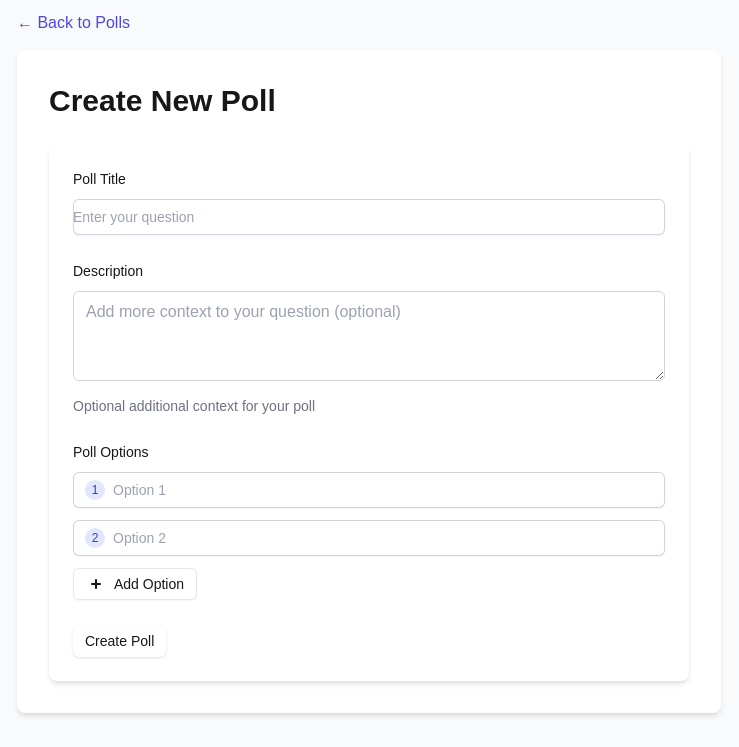
Test: CreatePollPage › Form validation › displays validation errors when submitting an empty form
Click the button "Create Poll" at [120, 641], box [73,625,166,657]
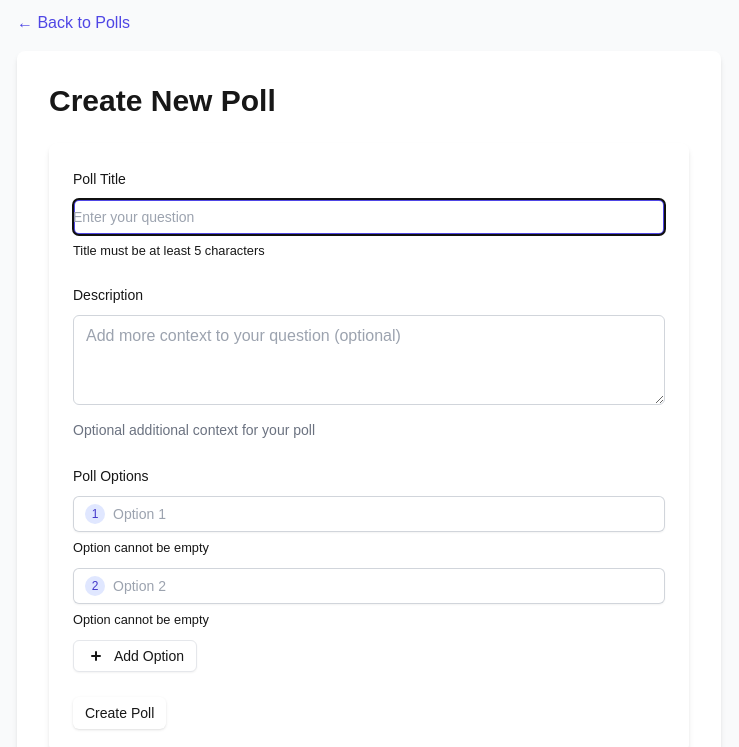
Check: the text "Title must be at least 5 characters" is shown, box [73,243,265,258]
Check: the 1st text "Option cannot be empty" is shown, box [73,540,209,555]
